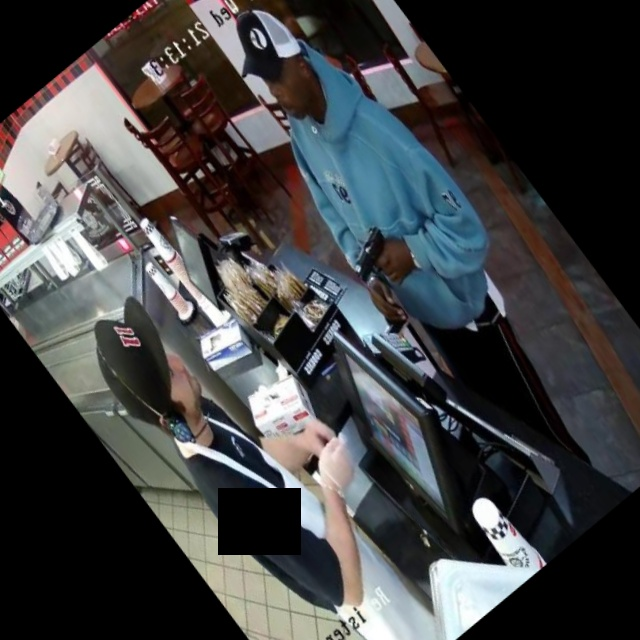gun: (310, 189, 439, 325)
